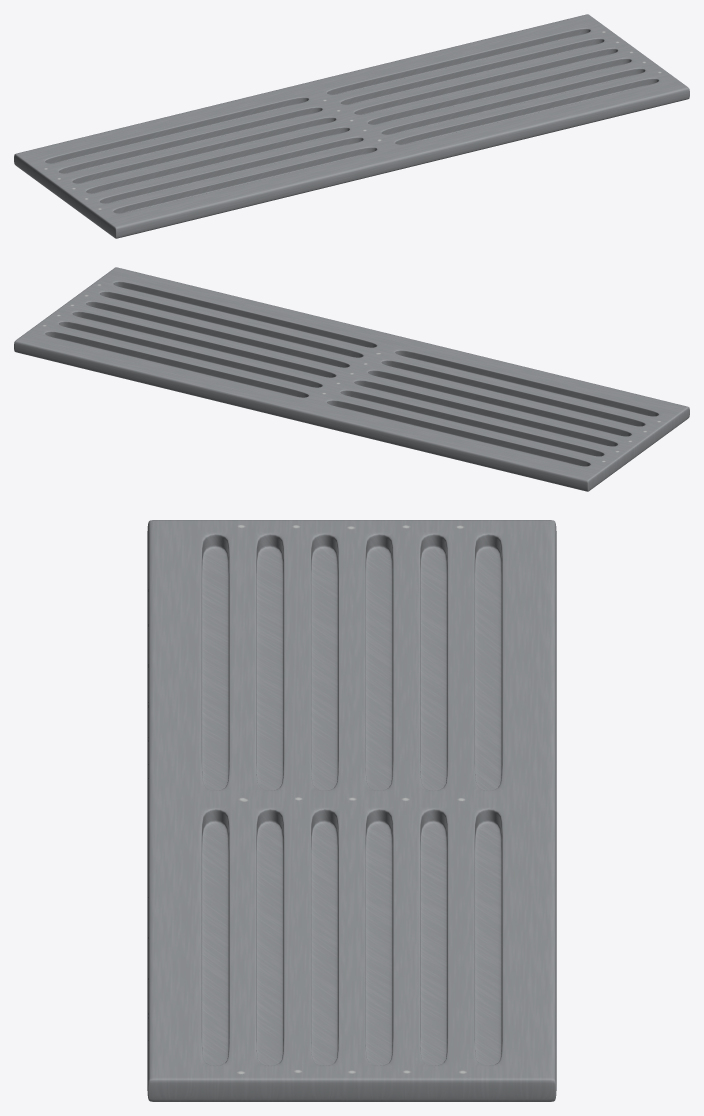
The model's file is Gutter_With_Texture.fbx.
3 renders of one model, top to bottom at view 1: azimuth 30°, elevation 25°; view 2: azimuth 150°, elevation 25°; view 3: azimuth 270°, elevation 25°, orthographic. The views are drawn at different scales.
Parts seen in each view (by area): view 1: Gutter1; view 2: Gutter1; view 3: Gutter1.
Boxes of the visible parts, box(x1,y1,x2,y2) form: Gutter1: box(14, 14, 689, 238); Gutter1: box(14, 267, 689, 491); Gutter1: box(147, 520, 556, 1101).
Bounding box in the file's own units: 11.89 × 0.2315 × 3.67.
